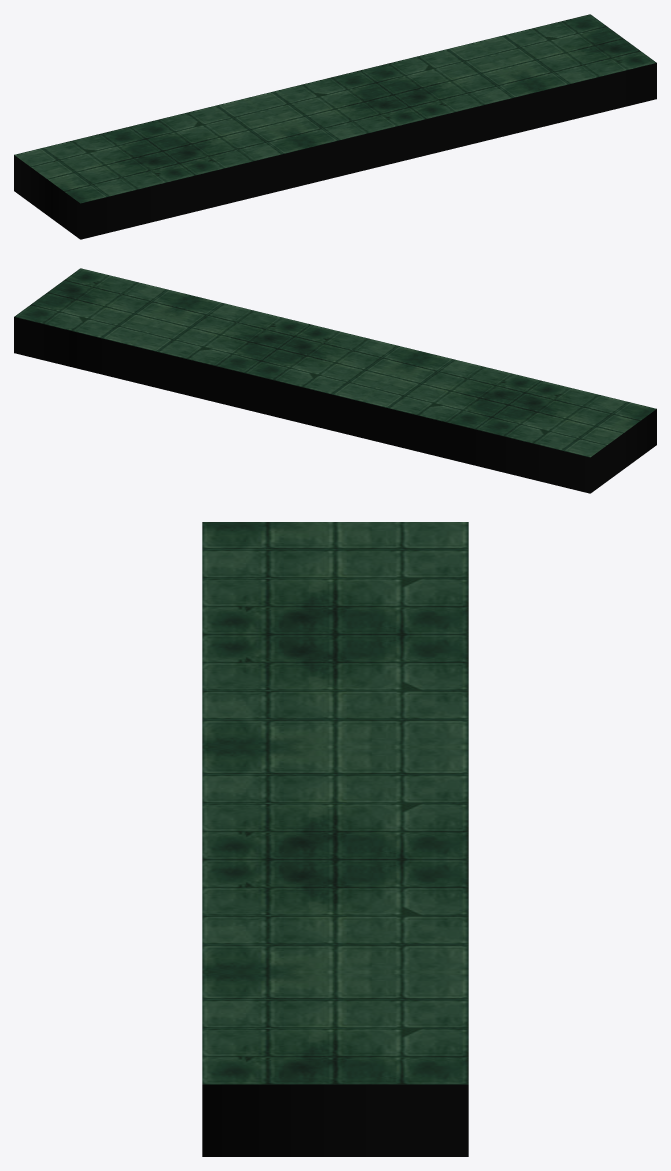
Rendered from Frogames_DP_floor_5x1.FBX.
3 views of the same model, one above another, from view 1: azimuth 30°, elevation 25°; view 2: azimuth 150°, elevation 25°; view 3: azimuth 270°, elevation 25° (orthographic). The views are drawn at different scales.
Parts seen in each view (by area): view 1: floor_5x1; view 2: floor_5x1; view 3: floor_5x1.
Part boxes in pixels (x1,y1,x2,y2): floor_5x1: (14,14,656,239); floor_5x1: (14,268,656,493); floor_5x1: (202,522,468,1156).
Size of the model in its own units: 50 by 10 by 3.
